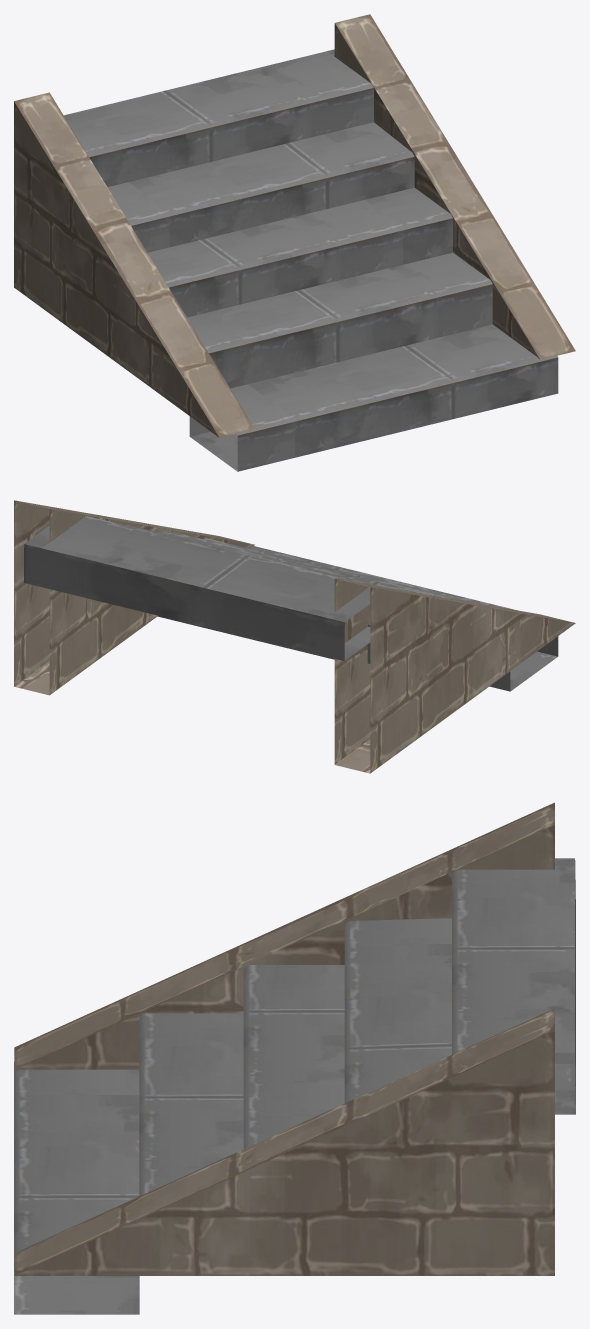
Rendered from stairs-qm-stairsexteriorstraight.glb.
3 views of the same model, one above another, from view 1: azimuth 30°, elevation 25°; view 2: azimuth 150°, elevation 25°; view 3: azimuth 270°, elevation 25° (orthographic). The views are drawn at different scales.
Parts seen in each view (by area): view 1: Cube_069; view 2: Cube_069; view 3: Cube_069.
Boxes of the visible parts, x1,y1,x2,y2 form: Cube_069: (14,14,575,471); Cube_069: (14,500,575,773); Cube_069: (14,802,575,1314).
Size of the model in its own units: 2 by 1.2 by 2.08.
2 materials, 2 textured.
